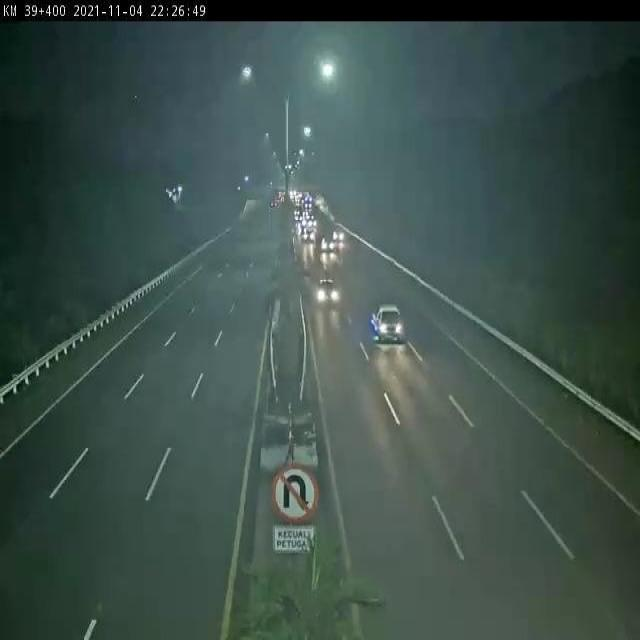Car: (370, 304, 404, 344), (315, 278, 340, 307), (321, 238, 335, 254), (302, 230, 318, 244), (332, 228, 345, 241)
